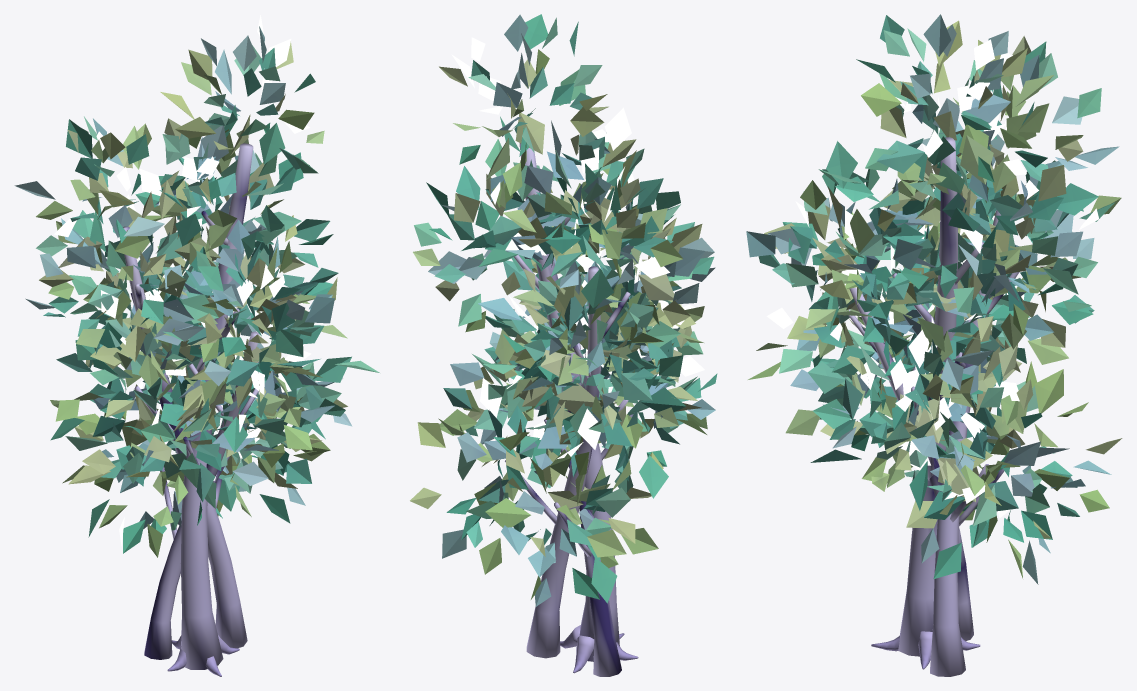
The model's file is verdant_tree_glassbirch_a.glb.
The picture shows the model from 3 angles, left to right: view 1: azimuth 30°, elevation 25°; view 2: azimuth 150°, elevation 25°; view 3: azimuth 270°, elevation 25°; orthographic projection. The views are drawn at different scales.
Parts seen in each view (by area): view 1: verdant_tree_glassbirch_a; view 2: verdant_tree_glassbirch_a; view 3: verdant_tree_glassbirch_a.
Boxes of the visible parts, x1,y1,x2,y2 form: verdant_tree_glassbirch_a: (14, 15, 379, 676); verdant_tree_glassbirch_a: (410, 14, 717, 676); verdant_tree_glassbirch_a: (746, 14, 1122, 676).
Bounding box in the file's own units: 5.07 × 10.75 × 5.45.
